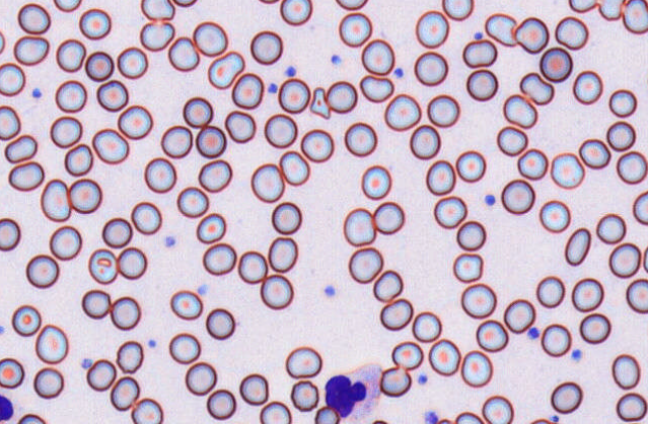MONO: (325, 366, 384, 420)
PLT: (423, 410, 438, 424), (527, 325, 541, 340), (417, 371, 430, 387), (324, 284, 337, 299), (266, 82, 280, 95), (484, 192, 496, 206), (284, 64, 296, 77), (571, 349, 583, 362), (330, 53, 342, 65), (32, 86, 43, 99), (394, 67, 405, 78), (473, 30, 483, 41), (81, 359, 92, 369), (549, 412, 560, 422), (147, 339, 157, 349)
RBC: (384, 93, 421, 131), (91, 128, 129, 164), (40, 178, 71, 222), (34, 324, 68, 364), (250, 162, 284, 202), (513, 16, 549, 53), (460, 282, 496, 318), (192, 20, 228, 56), (348, 246, 383, 283), (360, 38, 395, 75), (550, 152, 585, 189), (415, 10, 449, 48), (343, 207, 376, 246), (117, 104, 153, 139), (502, 93, 537, 128), (413, 51, 448, 86), (501, 178, 535, 214), (68, 177, 102, 213), (460, 350, 493, 387), (231, 72, 264, 109), (428, 338, 460, 376), (259, 274, 293, 309), (25, 253, 59, 288), (554, 15, 588, 50), (338, 12, 372, 47), (263, 113, 297, 148), (249, 30, 283, 65), (539, 46, 572, 82), (608, 242, 641, 278), (277, 77, 310, 113), (143, 157, 176, 193), (285, 346, 322, 378), (300, 128, 334, 162), (49, 225, 82, 260), (344, 121, 377, 156), (571, 277, 604, 312), (184, 361, 217, 395), (433, 195, 467, 228), (202, 242, 236, 275), (198, 159, 232, 192), (160, 124, 193, 158), (503, 298, 535, 333), (278, 150, 310, 185), (167, 36, 199, 71), (267, 236, 298, 272), (8, 160, 44, 191), (475, 319, 508, 352), (372, 201, 405, 234), (426, 94, 459, 127), (49, 115, 82, 148), (54, 79, 87, 112), (379, 298, 413, 330), (109, 296, 141, 330), (409, 124, 440, 159), (139, 20, 174, 51), (425, 159, 455, 195), (361, 164, 391, 200), (87, 248, 117, 284), (13, 35, 49, 65), (550, 381, 582, 414), (168, 332, 201, 364), (466, 68, 498, 101), (325, 80, 357, 113), (130, 201, 162, 234), (116, 46, 148, 79), (224, 110, 256, 143), (78, 8, 111, 40), (17, 2, 50, 34), (540, 323, 571, 357), (237, 250, 268, 284), (539, 199, 570, 233), (616, 150, 647, 184), (572, 70, 603, 104), (55, 38, 86, 72), (564, 227, 591, 266), (109, 376, 139, 411), (462, 38, 497, 68), (611, 353, 640, 389), (379, 365, 411, 397), (579, 312, 611, 344), (96, 79, 128, 111), (372, 269, 403, 302), (116, 246, 147, 279), (271, 201, 302, 234), (170, 289, 203, 320), (176, 186, 209, 217), (578, 138, 611, 169), (195, 125, 226, 158), (517, 148, 548, 180), (595, 212, 626, 244), (455, 150, 486, 182), (182, 96, 213, 128), (86, 358, 116, 391), (535, 275, 565, 308), (205, 307, 235, 340), (101, 217, 132, 248), (496, 125, 527, 156), (33, 367, 64, 398), (391, 340, 423, 370), (615, 392, 647, 422), (206, 388, 236, 420), (238, 373, 268, 405), (11, 304, 41, 336), (64, 143, 93, 176), (4, 134, 37, 163), (411, 311, 441, 342), (452, 252, 483, 282), (456, 220, 486, 251), (196, 212, 226, 243), (606, 120, 636, 151), (84, 50, 114, 81), (290, 379, 319, 411), (115, 340, 143, 373), (481, 395, 513, 423), (81, 289, 110, 319), (130, 397, 163, 423), (622, 0, 647, 34), (0, 62, 25, 96), (608, 88, 637, 117), (279, 0, 312, 25), (625, 278, 647, 313), (0, 357, 24, 389), (259, 400, 291, 423), (140, 0, 175, 21), (0, 104, 20, 140), (0, 217, 20, 251), (441, 0, 473, 20), (632, 190, 647, 224), (598, 0, 623, 20), (314, 405, 340, 423), (568, 0, 596, 13), (454, 411, 483, 423), (53, 0, 81, 12), (335, 0, 368, 10), (17, 413, 46, 423), (172, 0, 197, 7), (529, 417, 554, 423), (643, 245, 648, 273), (0, 30, 5, 54), (436, 418, 453, 423), (258, 0, 279, 4), (371, 419, 388, 423)
Schistocyte: (206, 52, 246, 90), (519, 71, 555, 106), (485, 13, 519, 47), (359, 74, 394, 103), (311, 86, 331, 121)
